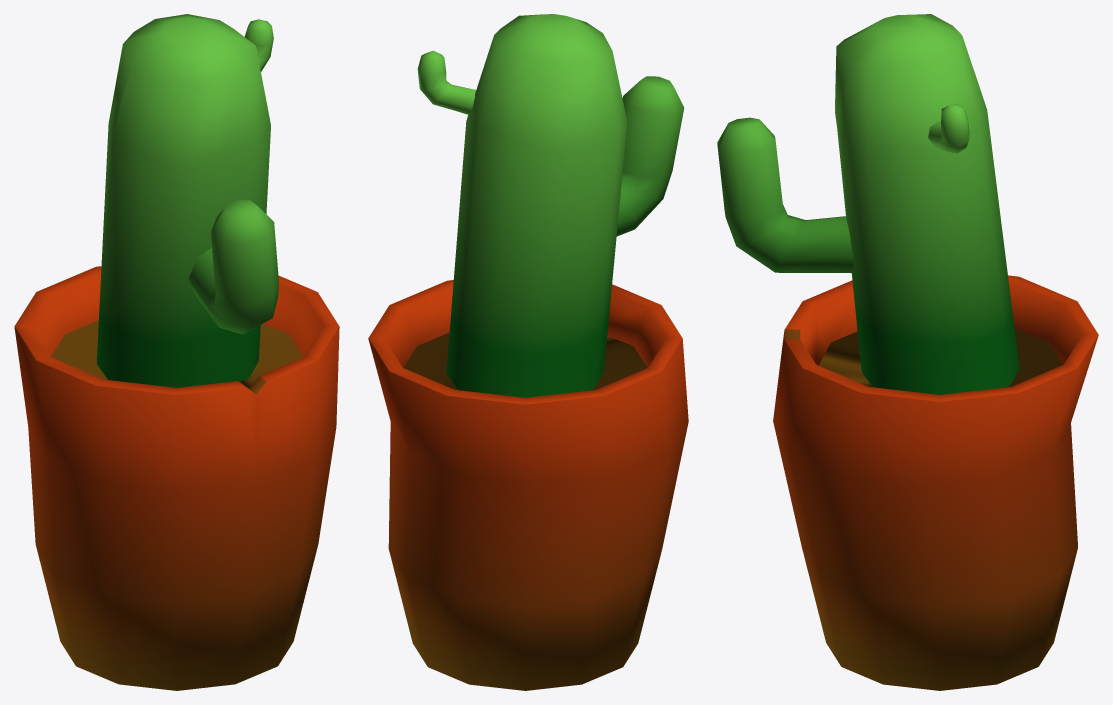
The model's file is deco_cactus.fbx.
3 renders of one model, left to right at view 1: azimuth 30°, elevation 25°; view 2: azimuth 150°, elevation 25°; view 3: azimuth 270°, elevation 25°, orthographic. The views are drawn at different scales.
Parts seen in each view (by area): view 1: deco_cactus; view 2: deco_cactus; view 3: deco_cactus.
Boxes of the visible parts, x1,y1,x2,y2 form: deco_cactus: (14, 14, 339, 690); deco_cactus: (368, 14, 688, 690); deco_cactus: (717, 14, 1098, 690).
Size of the model in its own units: 0.319 by 0.3834 by 0.6831.
